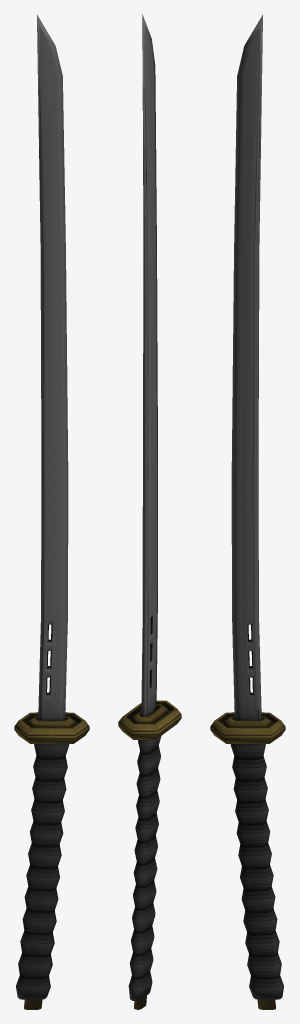
File: 139119Katana_BI_22.fbx
3 renders of one model, left to right at view 1: azimuth 90°, elevation 25°; view 2: azimuth 150°, elevation 25°; view 3: azimuth 270°, elevation 25°, orthographic.
Visible parts, largest first — view 1: Katana; view 2: Katana; view 3: Katana.
Part boxes in pixels (x1=…): Katana: x1=14, y1=14, x2=89, y2=1009; Katana: x1=118, y1=14, x2=181, y2=1009; Katana: x1=210, y1=14, x2=285, y2=1009.
Size of the model in its own units: 24.04 by 572 by 39.12.
1 material, 1 textured.
